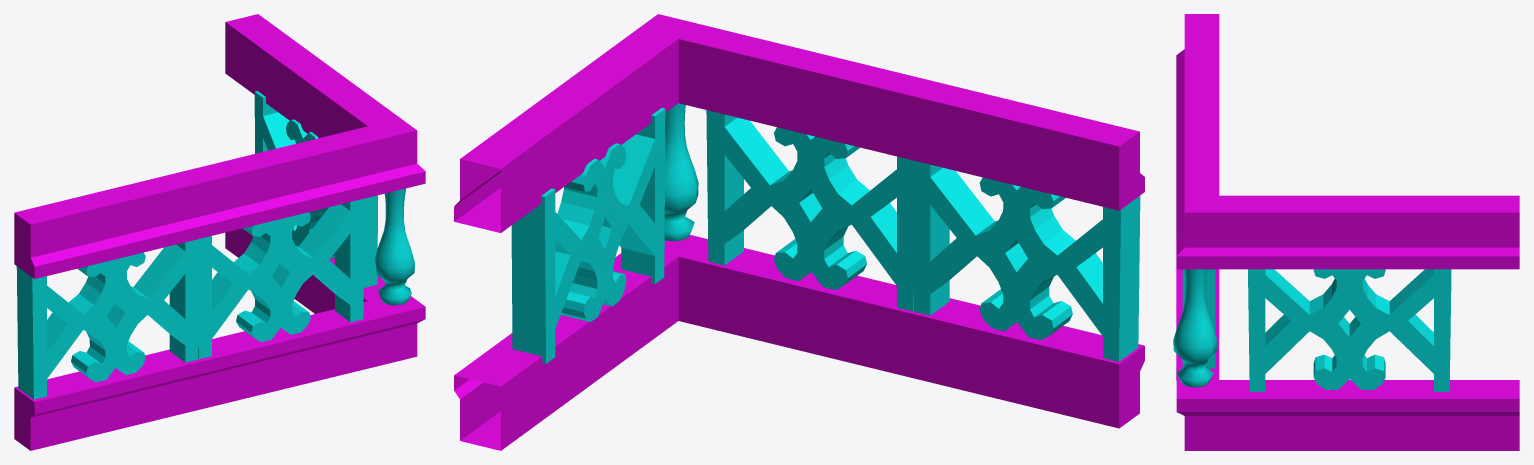
The model's file is balkuni_01.fbx.
The picture shows the model from 3 angles, left to right: view 1: azimuth 30°, elevation 25°; view 2: azimuth 150°, elevation 25°; view 3: azimuth 270°, elevation 25°; orthographic projection. The views are drawn at different scales.
Parts seen in each view (by area): view 1: polySurface192, polySurface193, polySurface189, polySurface188, polySurface191, polySurface190; view 2: polySurface192, polySurface193, polySurface189, polySurface188, polySurface191, polySurface190; view 3: polySurface192, polySurface193, polySurface191, polySurface190, polySurface188.
Boxes of the visible parts, x1,y1,x2,y2 form: polySurface192: (14, 14, 425, 278); polySurface193: (14, 228, 425, 450); polySurface189: (16, 239, 199, 399); polySurface188: (197, 198, 364, 359); polySurface191: (254, 91, 377, 287); polySurface190: (374, 188, 414, 305); polySurface192: (454, 14, 1144, 232); polySurface193: (454, 235, 1144, 450); polySurface189: (912, 161, 1140, 361); polySurface188: (706, 110, 915, 311); polySurface191: (511, 108, 665, 363); polySurface190: (664, 103, 698, 241); polySurface192: (1176, 14, 1519, 269); polySurface193: (1176, 238, 1519, 450); polySurface191: (1248, 269, 1451, 391); polySurface190: (1173, 269, 1217, 387); polySurface188: (1182, 269, 1215, 368).
Bounding box in the file's own units: 277 × 153 × 202.
